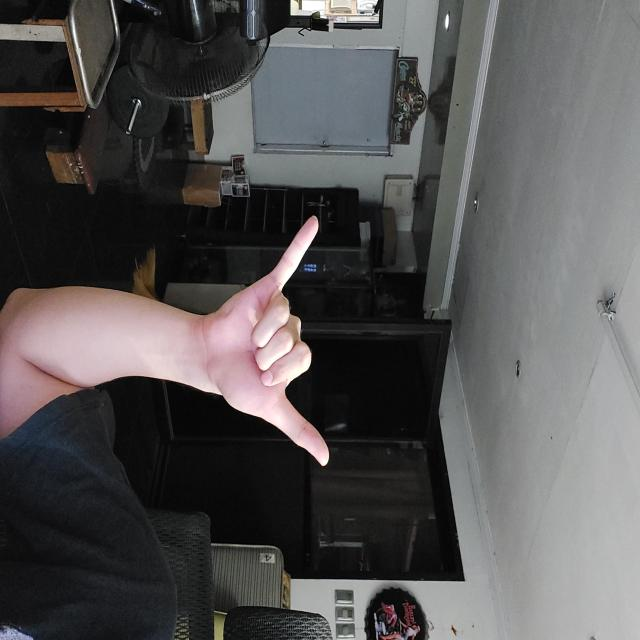Y: (216, 311, 467, 437)
